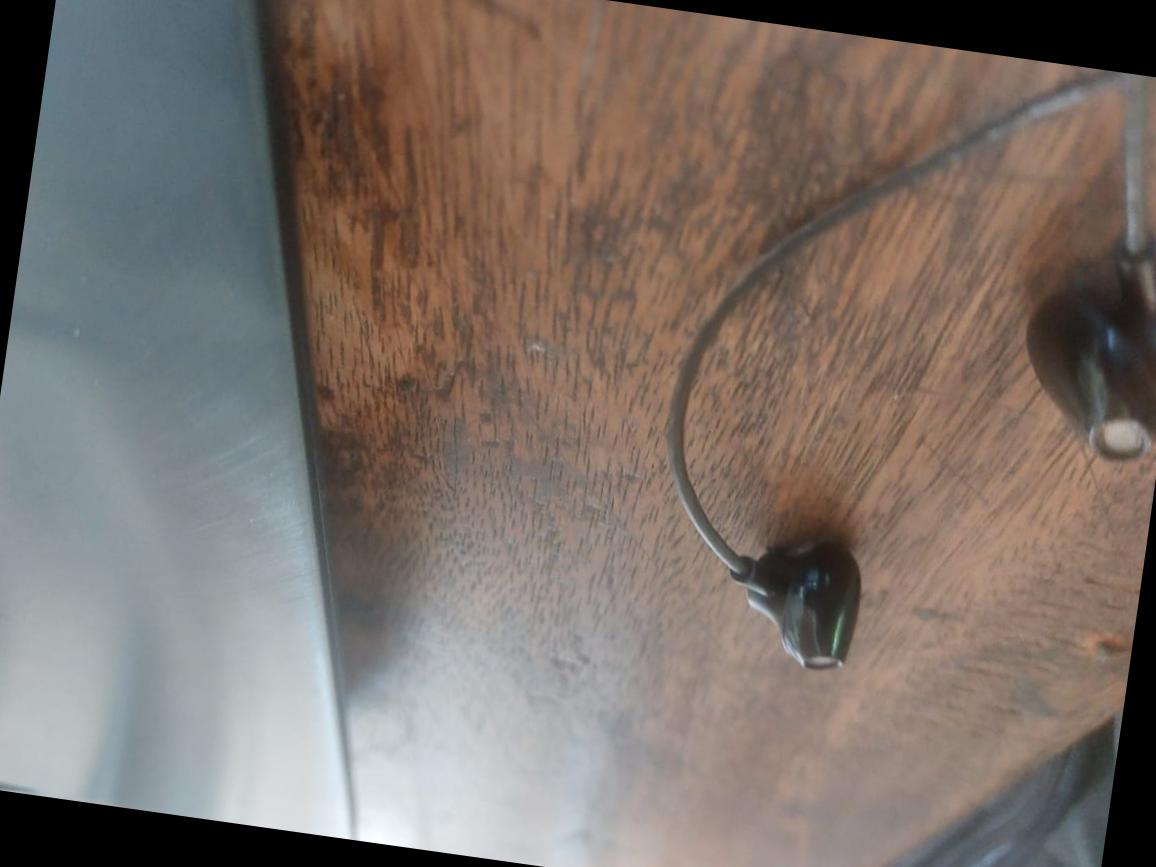Earphone: (1004, 235, 1155, 481), (714, 502, 884, 688)
